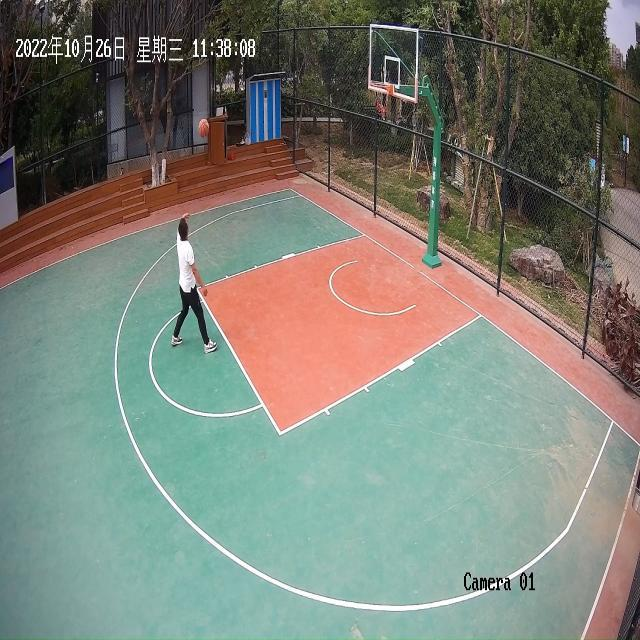rim: (198, 118, 210, 138)
